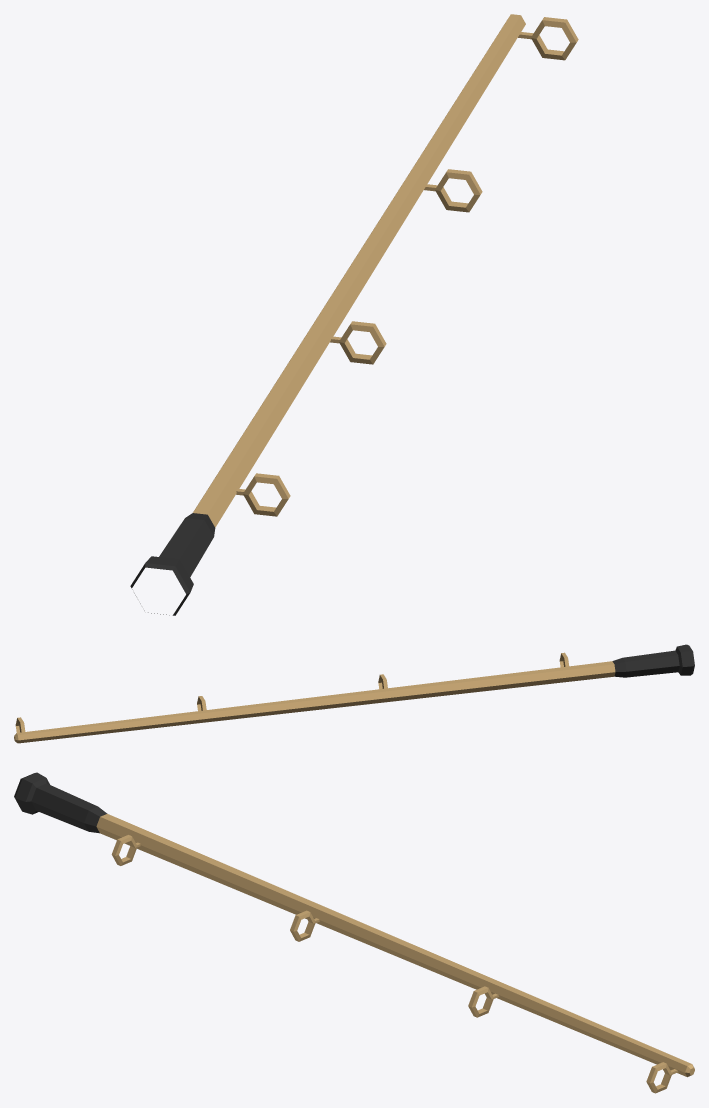
File: fishing_rod.glb
3 renders of one model, top to bottom at view 1: azimuth 30°, elevation 25°; view 2: azimuth 150°, elevation 25°; view 3: azimuth 270°, elevation 25°, orthographic. The views are drawn at different scales.
Visible parts, largest first — view 1: fishing_rod; view 2: fishing_rod; view 3: fishing_rod.
Boxes of the visible parts, x1,y1,x2,y2 form: fishing_rod: (130, 14, 578, 615); fishing_rod: (14, 644, 694, 743); fishing_rod: (14, 772, 694, 1093).
Bounding box in the file's own units: 0.5067 × 0.0266 × 0.4953.
